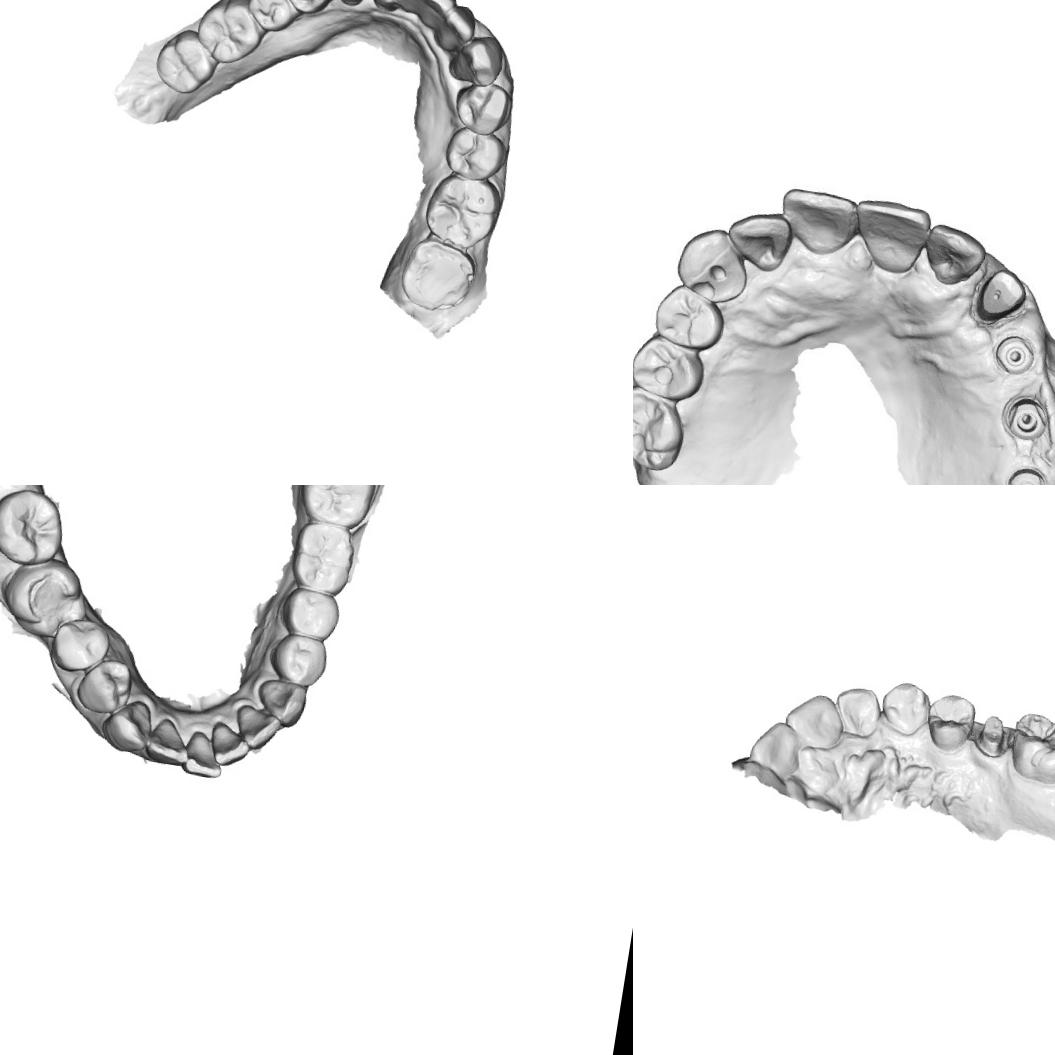canine: (675, 226, 745, 300), (96, 694, 158, 757), (875, 676, 934, 740), (448, 29, 509, 90), (252, 675, 312, 730)
crown: (974, 265, 1028, 333), (972, 710, 1013, 761)
implant: (997, 389, 1055, 446), (993, 331, 1038, 378), (1003, 460, 1051, 485)
incisor: (849, 194, 934, 282), (780, 186, 858, 260), (922, 223, 992, 294), (779, 687, 849, 755), (744, 716, 808, 780), (828, 682, 886, 742), (729, 212, 789, 269), (141, 714, 196, 769), (179, 727, 230, 781), (230, 703, 284, 754), (206, 717, 256, 770), (436, 1, 480, 50), (421, 0, 459, 31), (393, 0, 434, 19), (363, 0, 408, 16)
molar: (0, 551, 88, 644), (418, 166, 508, 255), (396, 235, 482, 318), (286, 516, 359, 598), (0, 485, 69, 570), (190, 0, 270, 69), (151, 24, 222, 99), (633, 386, 689, 466), (294, 485, 382, 531), (1005, 708, 1055, 787)
premolar: (440, 122, 513, 186), (45, 612, 114, 679), (650, 286, 723, 349), (633, 334, 702, 399), (275, 582, 345, 644), (450, 77, 516, 141), (72, 654, 136, 720), (264, 630, 332, 690), (922, 688, 979, 756), (243, 0, 303, 36), (280, 0, 336, 17)
